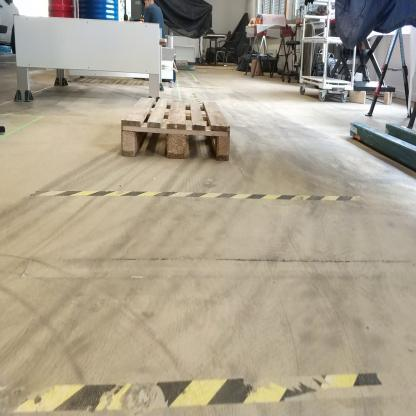BoxFace: (114, 90, 236, 169)
